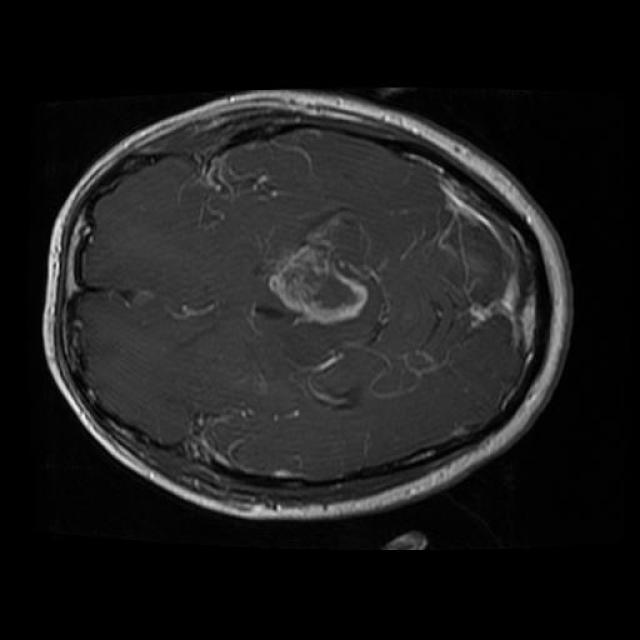Glioma: (269, 212, 367, 325)
